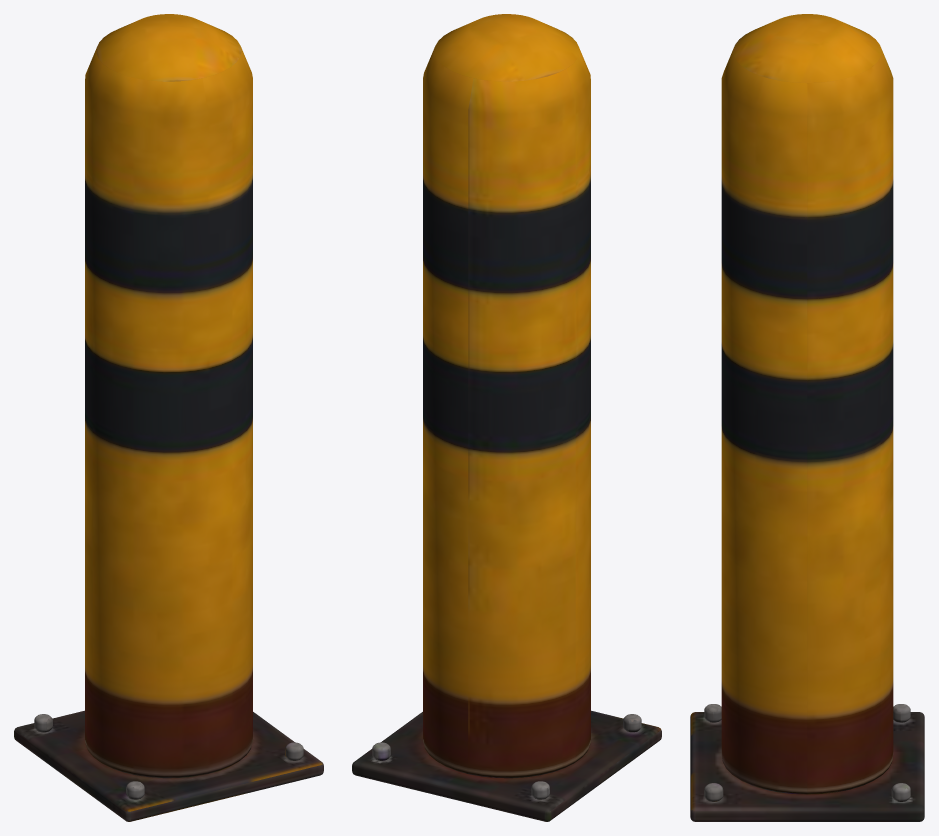
File: bollard.glb
3 renders of one model, left to right at view 1: azimuth 30°, elevation 25°; view 2: azimuth 150°, elevation 25°; view 3: azimuth 270°, elevation 25°, orthographic. The views are drawn at different scales.
Visible parts, largest first — view 1: bollard; view 2: bollard; view 3: bollard.
Boxes of the visible parts, left/top/right/bottom form: bollard: left=14, top=14, right=323, bottom=821; bollard: left=352, top=14, right=661, bottom=821; bollard: left=690, top=14, right=924, bottom=821.
Bounding box in the file's own units: 0.3 × 1.05 × 0.3.
1 material, 1 textured.
